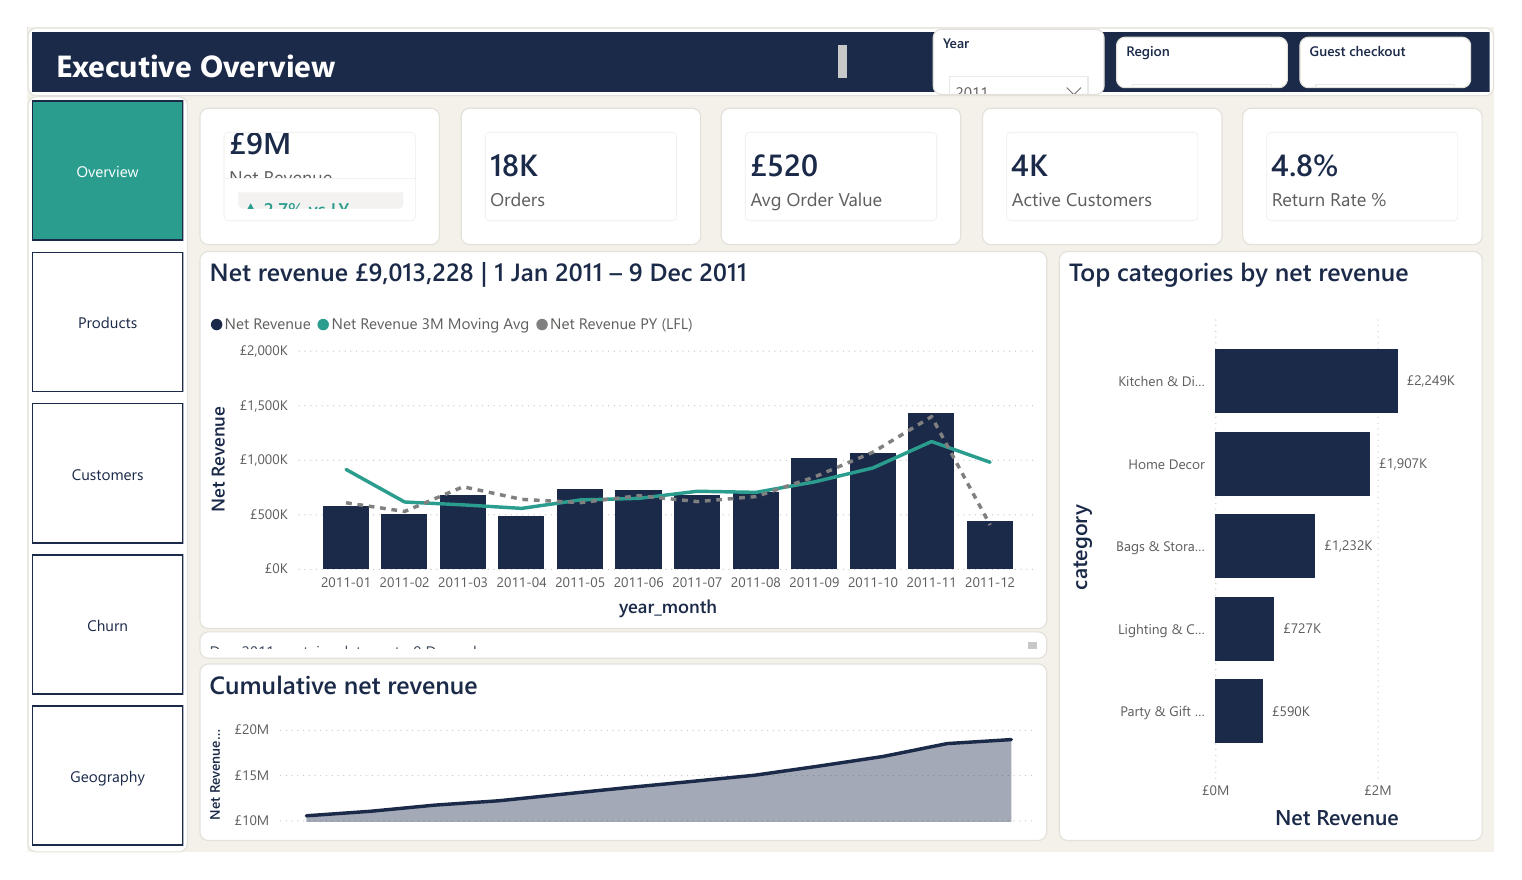

What the dashboard file says about the page in this screenshot:
{"tool":"powerbi","page":{"name":"Overview","canvas":[1280,720],"ordinal":0},"visuals":[{"type":"shape","box":[0,0,1280,60],"z":0},{"type":"textbox","box":[20,10,700,40],"z":1000},{"type":"pageNavigator","box":[0,60,140,660],"z":2000},{"type":"slicer","title":"Year","fields":{"Values":["dim_date.year"]},"box":[790,1,150,58],"z":2001},{"type":"slicer","title":"Region","fields":{"Values":["dim_country.region"]},"box":[950,8,150,45],"z":2002},{"type":"slicer","title":"Guest checkout","fields":{"Values":["dim_customer.is_guest"]},"box":[1110,8,150,45],"z":2003},{"type":"cardVisual","fields":{"Data":["_Measures.Net Revenue"]},"box":[150,70,210,120],"z":2004},{"type":"cardVisual","fields":{"Data":["_Measures.Orders"]},"box":[378,70,210,120],"z":2005},{"type":"cardVisual","fields":{"Data":["_Measures.Avg Order Value"]},"box":[605,70,210,120],"z":2006},{"type":"cardVisual","fields":{"Data":["_Measures.Active Customers"]},"box":[833,70,210,120],"z":2007},{"type":"cardVisual","fields":{"Data":["_Measures.Return Rate %"]},"box":[1060,70,210,120],"z":2008},{"type":"lineStackedColumnComboChart","fields":{"Category":["dim_date.year_month"],"Y":["_Measures.Net Revenue"],"Y2":["_Measures.Net Revenue 3M Moving Avg","_Measures.Net Revenue PY (LFL)"]},"box":[150,195,740,330],"z":2009},{"type":"textbox","box":[150,527,740,24],"z":2010},{"type":"areaChart","title":"Cumulative net revenue\t","fields":{"Category":["dim_date.year_month"],"Y":["_Measures.Net Revenue Running Total"]},"box":[150,555,740,155],"z":2011},{"type":"clusteredBarChart","title":"Top categories by net revenue\t","fields":{"Category":["dim_product.category"],"Y":["_Measures.Net Revenue"]},"box":[900,195,370,515],"z":2012}]}

Visuals, with their boxes in screenshot pixels (x1, y1, x2, y2), scaled from the page's 1280x720 canvas onto the 1522x880 screenshot:
shape: (0, 0, 1521, 73)
textbox: (24, 12, 856, 61)
pageNavigator: (0, 73, 166, 879)
"Year" slicer: (939, 1, 1118, 72)
"Region" slicer: (1130, 10, 1308, 65)
"Guest checkout" slicer: (1320, 10, 1498, 65)
cardVisual - _Measures.Net Revenue: (178, 86, 428, 232)
cardVisual - _Measures.Orders: (449, 86, 699, 232)
cardVisual - _Measures.Avg Order Value: (719, 86, 969, 232)
cardVisual - _Measures.Active Customers: (990, 86, 1240, 232)
cardVisual - _Measures.Return Rate %: (1260, 86, 1510, 232)
lineStackedColumnComboChart - dim_date.year_month x _Measures.Net Revenue: (178, 238, 1058, 642)
textbox: (178, 644, 1058, 673)
"Cumulative net revenue	" areaChart: (178, 678, 1058, 868)
"Top categories by net revenue	" clusteredBarChart: (1070, 238, 1510, 868)
